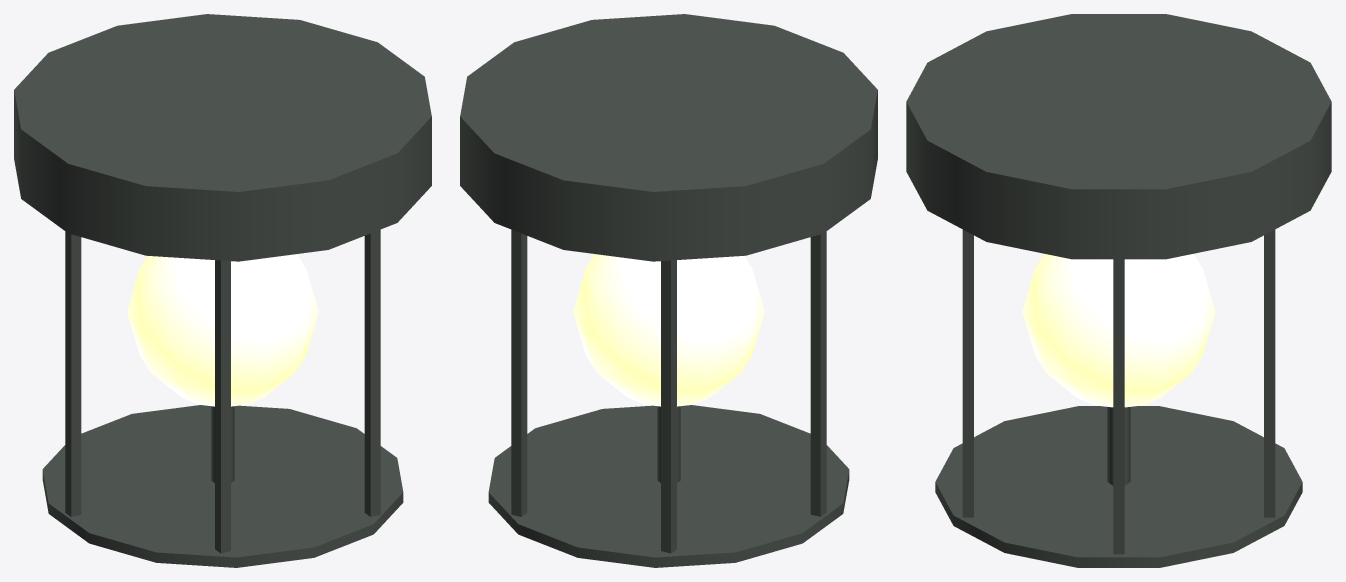
File: PROP_Light_Bulkhead_Historic.glb
The picture shows the model from 3 angles, left to right: view 1: azimuth 30°, elevation 25°; view 2: azimuth 150°, elevation 25°; view 3: azimuth 270°, elevation 25°; orthographic projection.
Parts seen in each view (by area): view 1: PROP_Light_Bulkhead_Historic_Mesh, PROP_Light_Bulkhead_Historic_Bulb; view 2: PROP_Light_Bulkhead_Historic_Mesh, PROP_Light_Bulkhead_Historic_Bulb; view 3: PROP_Light_Bulkhead_Historic_Mesh, PROP_Light_Bulkhead_Historic_Bulb.
Part boxes in pixels (<box>): PROP_Light_Bulkhead_Historic_Mesh: <box>14,14,431,567</box>; PROP_Light_Bulkhead_Historic_Bulb: <box>127,254,318,406</box>; PROP_Light_Bulkhead_Historic_Mesh: <box>460,14,877,567</box>; PROP_Light_Bulkhead_Historic_Bulb: <box>573,254,764,406</box>; PROP_Light_Bulkhead_Historic_Mesh: <box>906,14,1331,567</box>; PROP_Light_Bulkhead_Historic_Bulb: <box>1022,254,1215,407</box>.
Bounding box in the file's own units: 0.2145 × 0.223 × 0.22.
